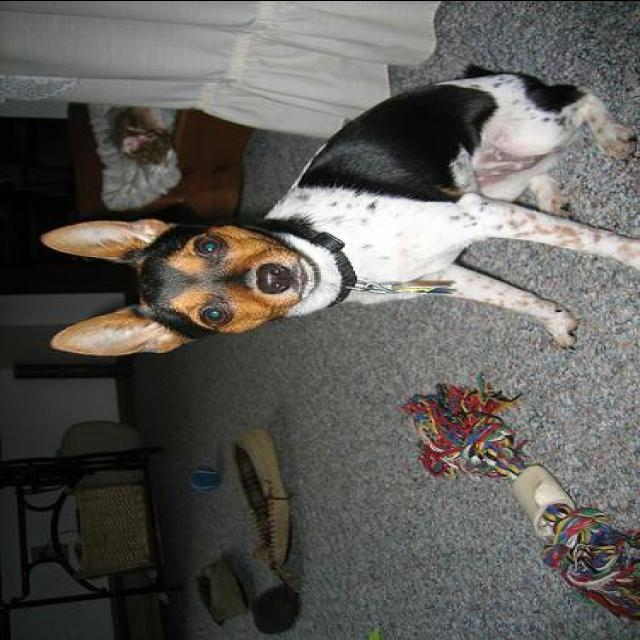toy_terrier: (39, 64, 638, 357)
